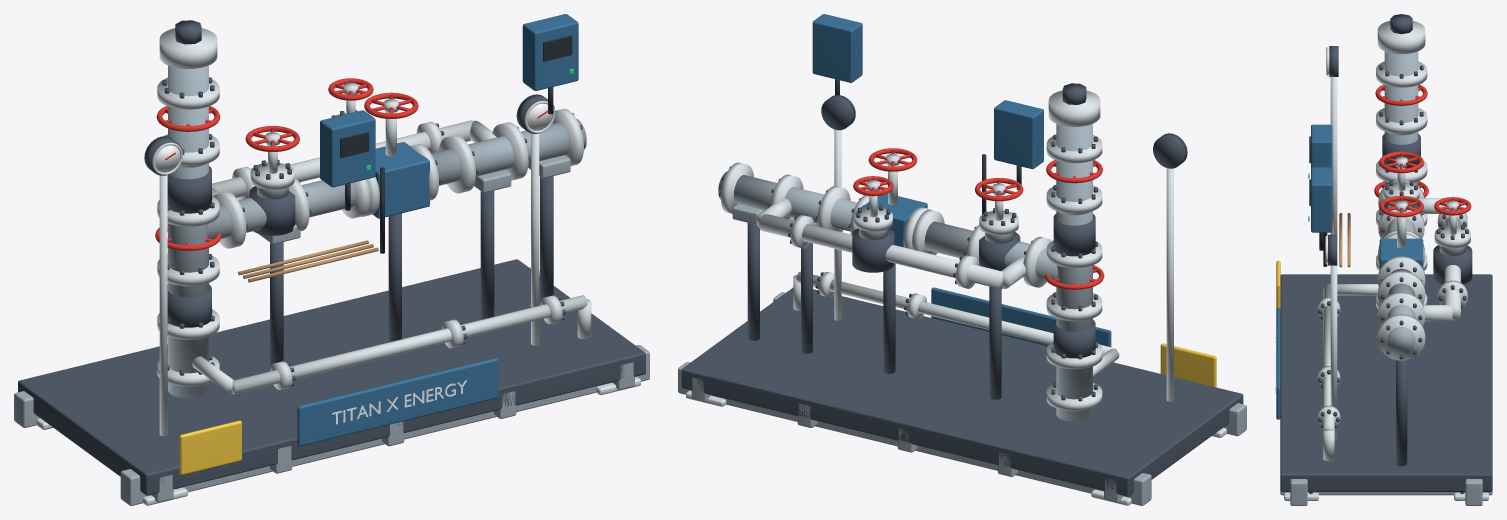
File: wellhead-inlet.glb
The picture shows the model from 3 angles, left to right: view 1: azimuth 30°, elevation 25°; view 2: azimuth 150°, elevation 25°; view 3: azimuth 270°, elevation 25°; orthographic projection. The views are drawn at different scales.
Visible parts, largest first — view 1: Main Skid Deck, Titan X Nameplate, Wellhead Main Bore, Drain Header, Longitudinal I Beam, Flow Transmitter Housing, Gas Outlet Pipeline, Pressure Transmitter Housing, Choke Valve Housing, Safety Warning Plate, Production Wing, Gauge Support (+22 smaller); view 2: Main Skid Deck, Wellhead Main Bore, Bypass Header, Flow Transmitter Housing, Pressure Transmitter Housing, Longitudinal I Beam.001, Gas Outlet Pipeline, Drain Header, Titan X Nameplate, Production Wing, Gauge Support, Safety Warning Plate (+25 smaller); view 3: Main Skid Deck, Wellhead Main Bore, Flow Transmitter Housing, Pipeline Support Column.003, Top Cap, Gas Outlet Pipeline, Gauge Support.001, Outlet Connection Flange.002, Drain Header, Gauge Support, Bypass Isolation Valve Forged Body, Pressure Transmitter Housing (+29 smaller).
Part boxes in pixels (x1=…): Main Skid Deck: x1=18, y1=259, x2=645, y2=495; Titan X Nameplate: x1=297, y1=358, x2=498, y2=446; Wellhead Main Bore: x1=168, y1=65, x2=208, y2=398; Drain Header: x1=232, y1=295, x2=587, y2=394; Longitudinal I Beam: x1=120, y1=345, x2=649, y2=505; Flow Transmitter Housing: x1=522, y1=14, x2=578, y2=90; Gas Outlet Pipeline: x1=431, y1=118, x2=586, y2=185; Pressure Transmitter Housing: x1=320, y1=110, x2=375, y2=187; Choke Valve Housing: x1=373, y1=142, x2=429, y2=218; Safety Warning Plate: x1=179, y1=420, x2=241, y2=474; Production Wing: x1=207, y1=180, x2=355, y2=239; Gauge Support: x1=159, y1=175, x2=167, y2=436; Main Skid Deck: x1=681, y1=288, x2=1243, y2=496; Wellhead Main Bore: x1=1056, y1=124, x2=1092, y2=421; Bypass Header: x1=759, y1=214, x2=1002, y2=289; Flow Transmitter Housing: x1=812, y1=14, x2=862, y2=82; Pressure Transmitter Housing: x1=994, y1=100, x2=1043, y2=168; Longitudinal I Beam.001: x1=678, y1=362, x2=1151, y2=505; Gas Outlet Pipeline: x1=718, y1=171, x2=856, y2=231; Drain Header: x1=796, y1=271, x2=1116, y2=354; Titan X Nameplate: x1=931, y1=287, x2=1111, y2=346; Production Wing: x1=924, y1=221, x2=1057, y2=279; Gauge Support: x1=1166, y1=168, x2=1173, y2=401; Safety Warning Plate: x1=1160, y1=343, x2=1216, y2=387; Main Skid Deck: x1=1280, y1=274, x2=1492, y2=491; Wellhead Main Bore: x1=1384, y1=51, x2=1418, y2=185; Flow Transmitter Housing: x1=1311, y1=167, x2=1332, y2=232; Pipeline Support Column.003: x1=1396, y1=360, x2=1407, y2=466; Top Cap: x1=1377, y1=21, x2=1425, y2=54; Gas Outlet Pipeline: x1=1387, y1=268, x2=1415, y2=355; Gauge Support.001: x1=1330, y1=265, x2=1337, y2=440; Outlet Connection Flange.002: x1=1377, y1=314, x2=1425, y2=360; Drain Header: x1=1323, y1=284, x2=1334, y2=430; Gauge Support: x1=1330, y1=77, x2=1337, y2=234; Bypass Isolation Valve Forged Body: x1=1433, y1=245, x2=1472, y2=284; Pressure Transmitter Housing: x1=1311, y1=124, x2=1332, y2=168.
Bounding box in the file's own units: 3.95 × 2.91 × 1.74.
